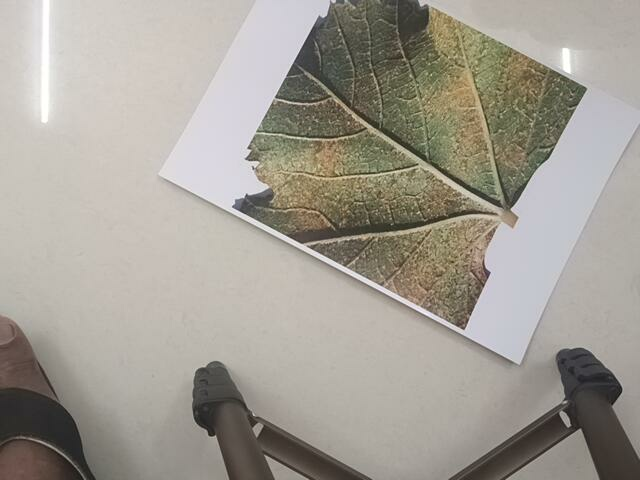Grape_Rust_Fungus: (204, 1, 588, 333)
